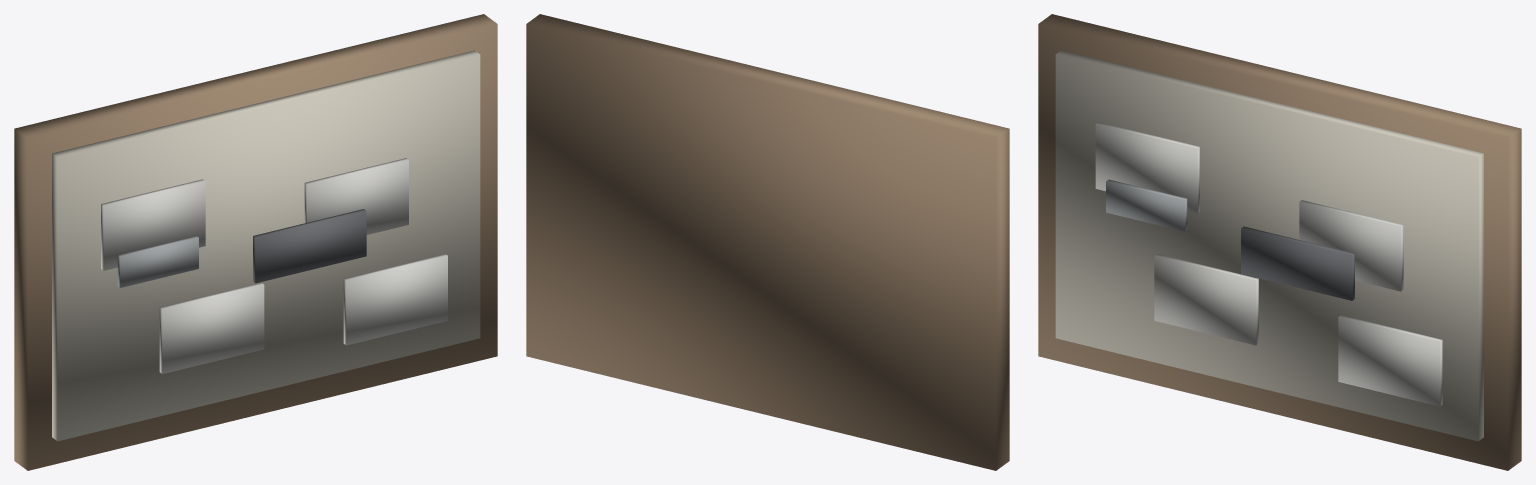
The model's file is key_hook_board__weathered.glb.
3 views of the same model, side by side, from view 1: azimuth 30°, elevation 25°; view 2: azimuth 150°, elevation 25°; view 3: azimuth 330°, elevation 25° (orthographic).
Visible parts, largest first — view 1: world; view 2: world; view 3: world.
Part boxes in pixels (bbox=[...]): world: bbox=[14, 14, 497, 470]; world: bbox=[526, 14, 1009, 470]; world: bbox=[1038, 14, 1521, 470].
Size of the model in its own units: 1.2 by 0.8118 by 0.115.
